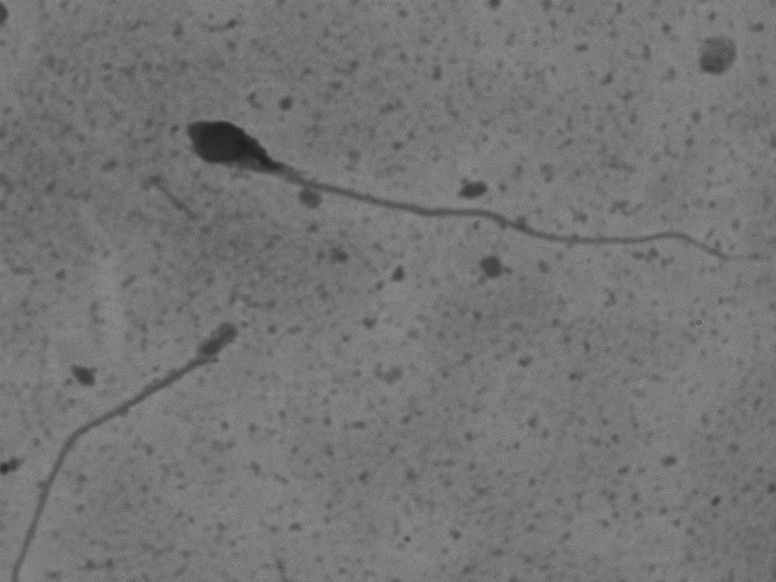Abnormal: (158, 80, 750, 308), (16, 300, 272, 543)
